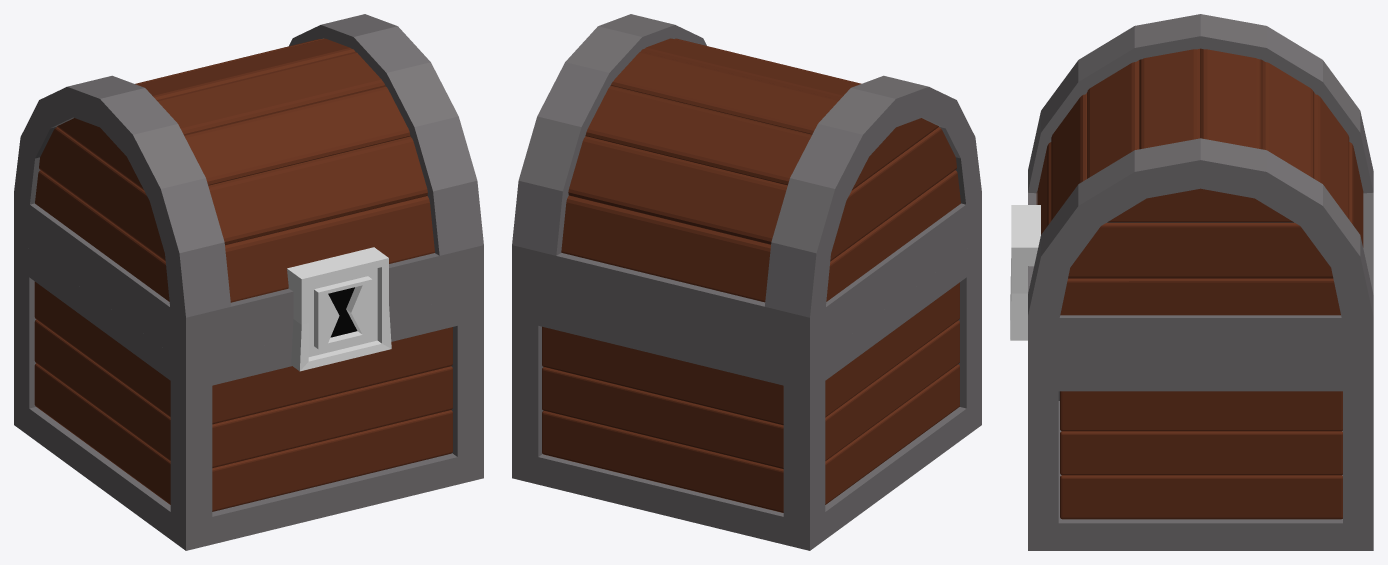
The model's file is SM_Chest_01.fbx.
3 renders of one model, left to right at view 1: azimuth 30°, elevation 25°; view 2: azimuth 150°, elevation 25°; view 3: azimuth 270°, elevation 25°, orthographic.
Visible parts, largest first — view 1: Cylinder; view 2: Cylinder; view 3: Cylinder.
Boxes of the visible parts, x1,y1,x2,y2 form: Cylinder: [14, 14, 483, 550]; Cylinder: [512, 14, 981, 550]; Cylinder: [1010, 14, 1373, 550].
Bounding box in the file's own units: 200 × 250 × 210.
